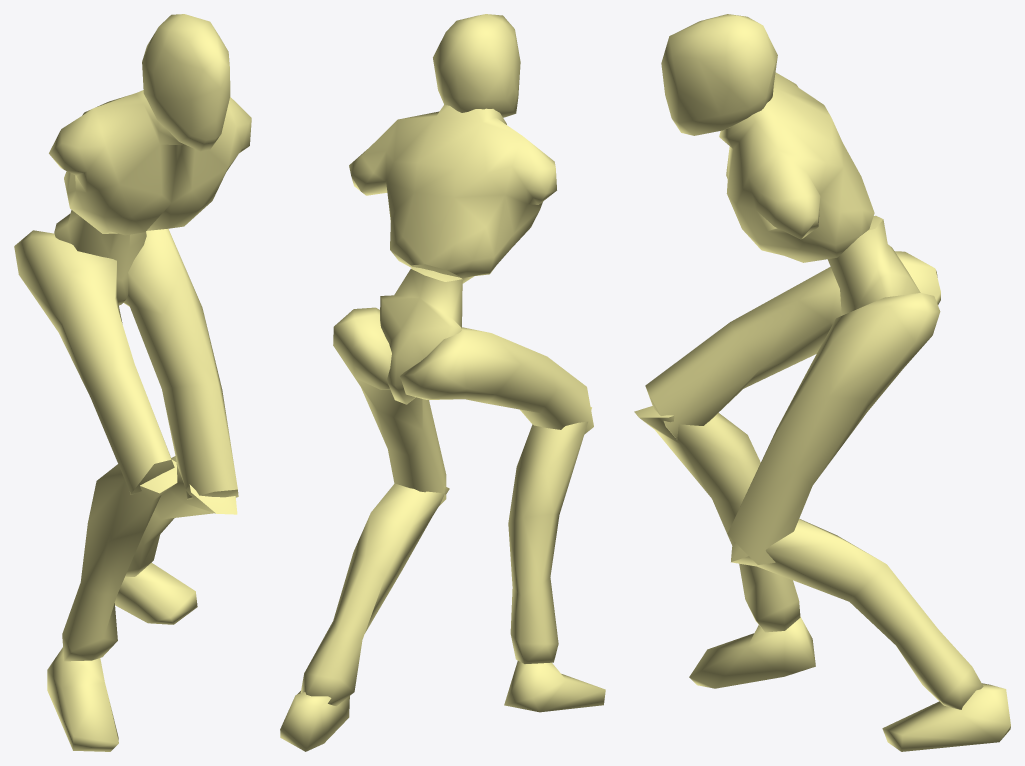
Rendered from filth40.obj.
The picture shows the model from 3 angles, left to right: view 1: azimuth 30°, elevation 25°; view 2: azimuth 150°, elevation 25°; view 3: azimuth 270°, elevation 25°; orthographic projection. The views are drawn at different scales.
Parts seen in each view (by area): view 1: Melee_Husk; view 2: Melee_Husk; view 3: Melee_Husk.
Part boxes in pixels (x1,y1,x2,y2): Melee_Husk: (14,14,251,751); Melee_Husk: (280,14,605,751); Melee_Husk: (634,14,1010,751).
Bounding box in the file's own units: 22.25 × 67.44 × 32.17.
